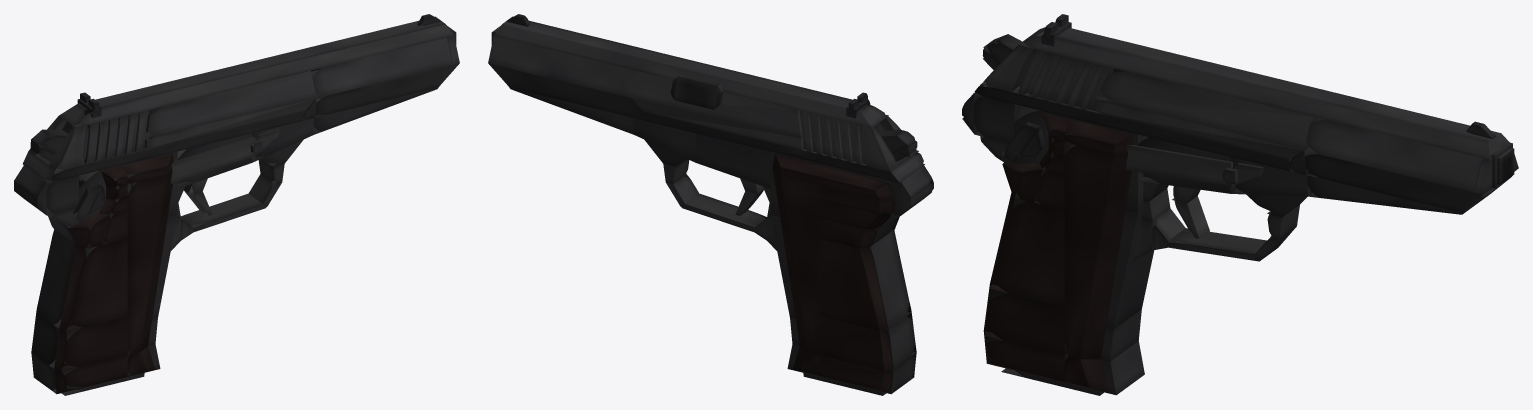
3 views of the same model, side by side, from view 1: azimuth 30°, elevation 25°; view 2: azimuth 150°, elevation 25°; view 3: azimuth 330°, elevation 25° (orthographic). The views are drawn at different scales.
Visible parts, largest first — view 1: slideModel6, gunModel23, gunModel28, slideModel4, slideModel3, gunModel0, slideModel1, gunModel29, slideModel2, slideModel5, gunModel45, gunModel30 (+22 smaller); view 2: slideModel6, gunModel34, gunModel37, slideModel3, slideModel4, gunModel0, slideModel1, gunModel38, slideModel2, gunModel8, gunModel35, slideModel5 (+19 smaller); view 3: slideModel6, gunModel23, slideModel4, gunModel28, slideModel3, slideModel2, gunModel29, slideModel1, gunModel0, slideModel5, gunModel45, gunModel30 (+26 smaller).
Part boxes in pixels (bbox=[...]): slideModel6: bbox=[59, 16, 453, 127]; gunModel23: bbox=[127, 171, 172, 354]; gunModel28: bbox=[59, 239, 127, 330]; slideModel4: bbox=[146, 71, 316, 137]; slideModel3: bbox=[311, 37, 452, 97]; gunModel0: bbox=[36, 215, 177, 328]; slideModel1: bbox=[23, 111, 303, 182]; gunModel29: bbox=[54, 316, 127, 370]; slideModel2: bbox=[311, 59, 459, 117]; slideModel5: bbox=[144, 98, 315, 148]; gunModel45: bbox=[131, 136, 256, 187]; gunModel30: bbox=[54, 355, 127, 393]; slideModel6: bbox=[494, 16, 888, 127]; gunModel34: bbox=[772, 169, 820, 354]; gunModel37: bbox=[820, 239, 887, 330]; slideModel3: bbox=[495, 37, 636, 97]; slideModel4: bbox=[631, 71, 802, 137]; gunModel0: bbox=[770, 215, 910, 328]; slideModel1: bbox=[644, 111, 924, 182]; gunModel38: bbox=[820, 316, 892, 370]; slideModel2: bbox=[488, 63, 632, 117]; gunModel8: bbox=[696, 133, 770, 188]; gunModel35: bbox=[772, 154, 895, 198]; slideModel5: bbox=[632, 98, 803, 149]; slideModel6: bbox=[1018, 27, 1509, 159]; gunModel23: bbox=[1064, 141, 1131, 359]; slideModel4: bbox=[1096, 71, 1322, 150]; gunModel28: bbox=[990, 192, 1064, 306]; slideModel3: bbox=[1304, 117, 1482, 191]; slideModel2: bbox=[1304, 152, 1491, 212]; gunModel29: bbox=[983, 284, 1067, 355]; slideModel1: bbox=[973, 85, 1291, 171]; gunModel0: bbox=[1012, 197, 1154, 329]; slideModel5: bbox=[1091, 99, 1303, 159]; gunModel45: bbox=[1125, 145, 1234, 185]; gunModel30: bbox=[984, 331, 1069, 383].
Size of the model in its own units: 8.6 by 5.45 by 1.1.
